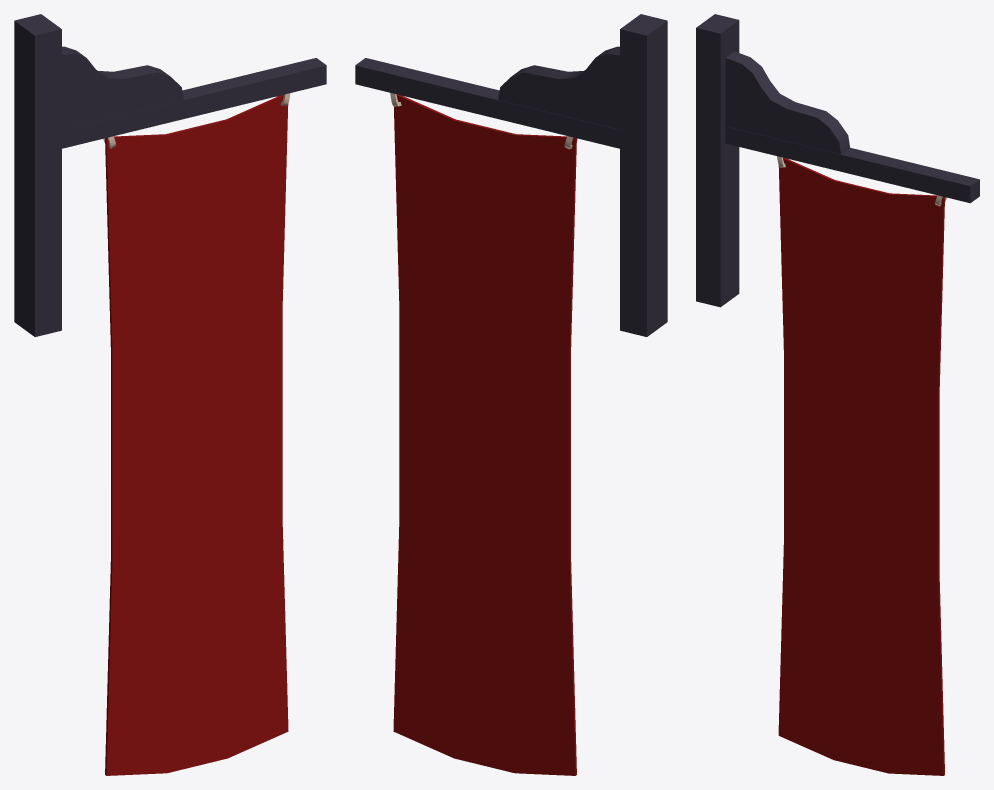
File: flag_banner_02.fbx
The picture shows the model from 3 angles, left to right: view 1: azimuth 30°, elevation 25°; view 2: azimuth 150°, elevation 25°; view 3: azimuth 330°, elevation 25°; orthographic projection. The views are drawn at different scales.
Parts seen in each view (by area): view 1: flag_banner_02; view 2: flag_banner_02; view 3: flag_banner_02.
Boxes of the visible parts, bbox=[...] form: flag_banner_02: bbox=[14, 14, 326, 775]; flag_banner_02: bbox=[355, 14, 667, 775]; flag_banner_02: bbox=[696, 14, 979, 775].
Size of the model in its own units: 126 by 315 by 15.25.
